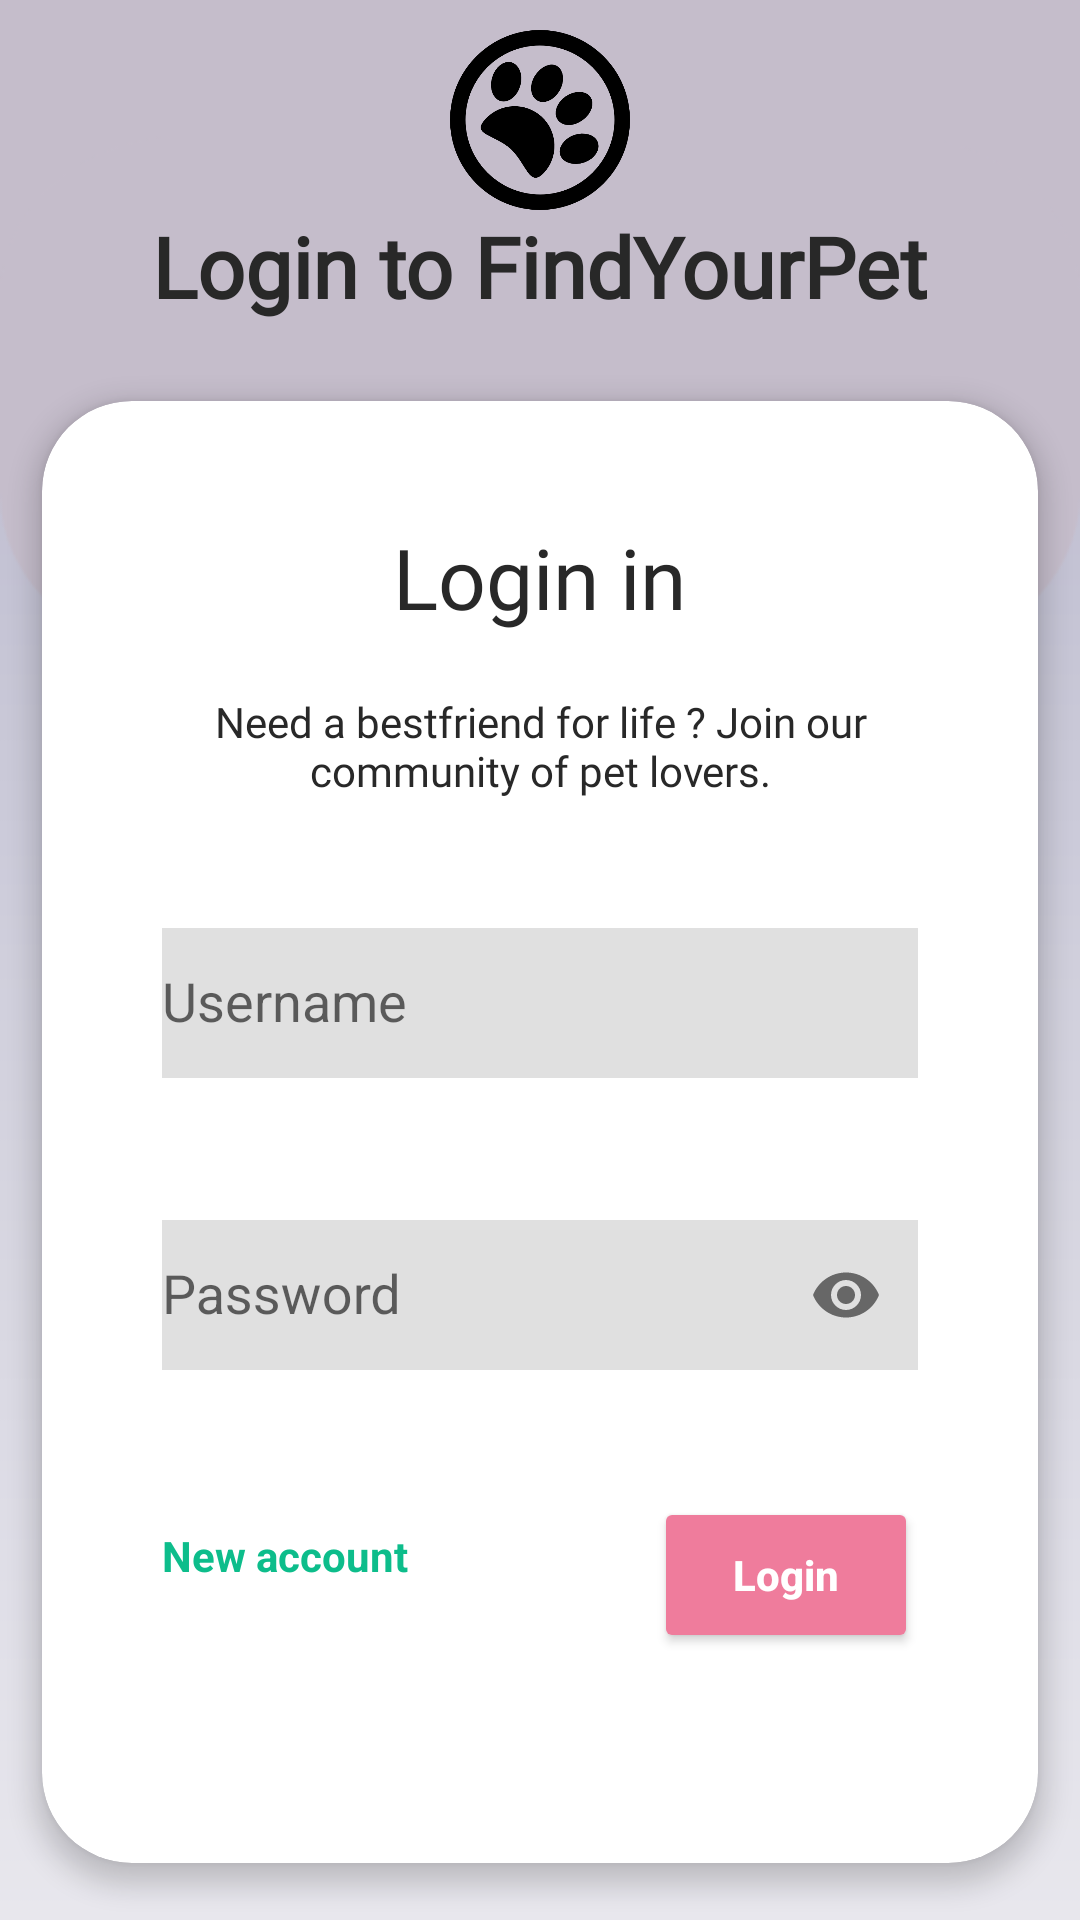

Icon bounding boxes for this 1080w x 1920h phone screenshot, format BBox(x1, y1, x2, y2):
pet: BBox(450, 30, 630, 210)
